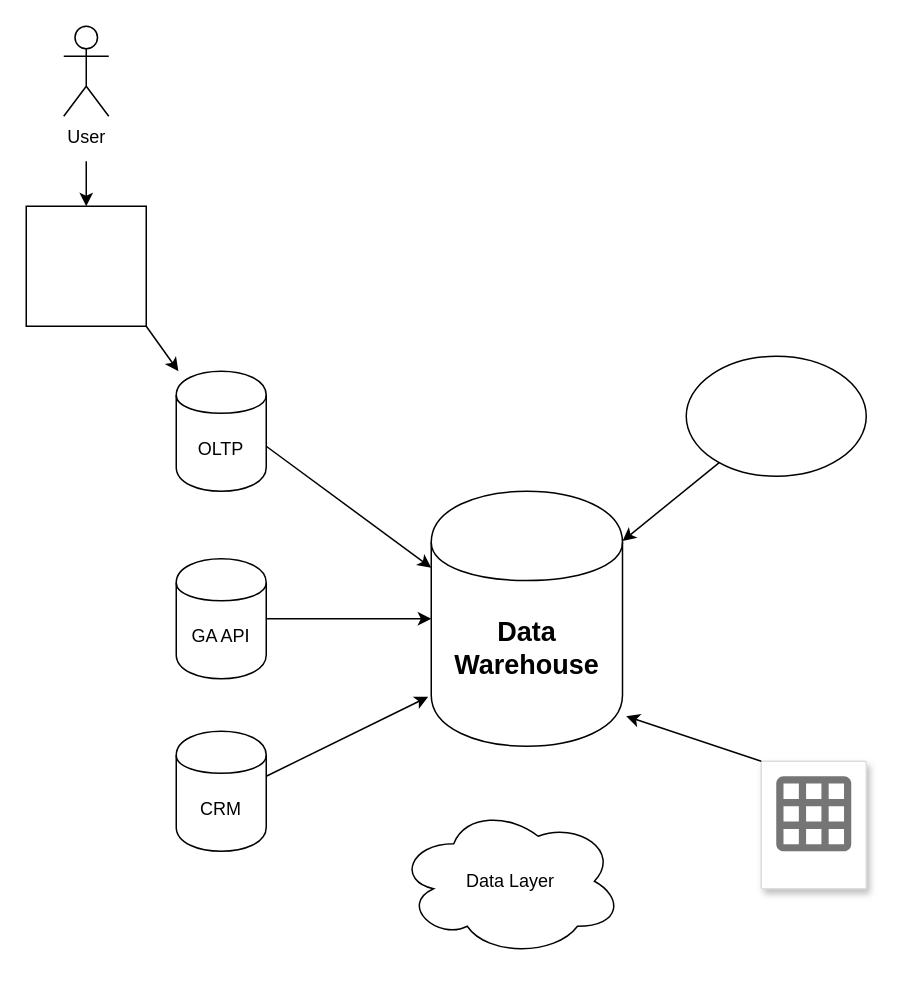
This 902x983 diagram has some shape labels left out. Here are the shapes that lost their labels. From the top down, the centre of each, then its label:
At pixel 85 265: "www".
At pixel 775 415: "SQL".
At pixel 814 826: "BI".
